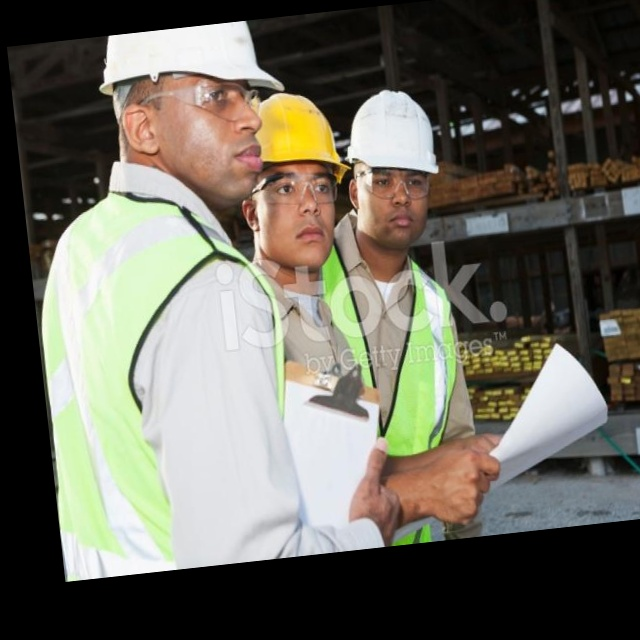Con_Casco: (92, 19, 293, 202), (252, 87, 358, 264), (346, 84, 449, 253)
